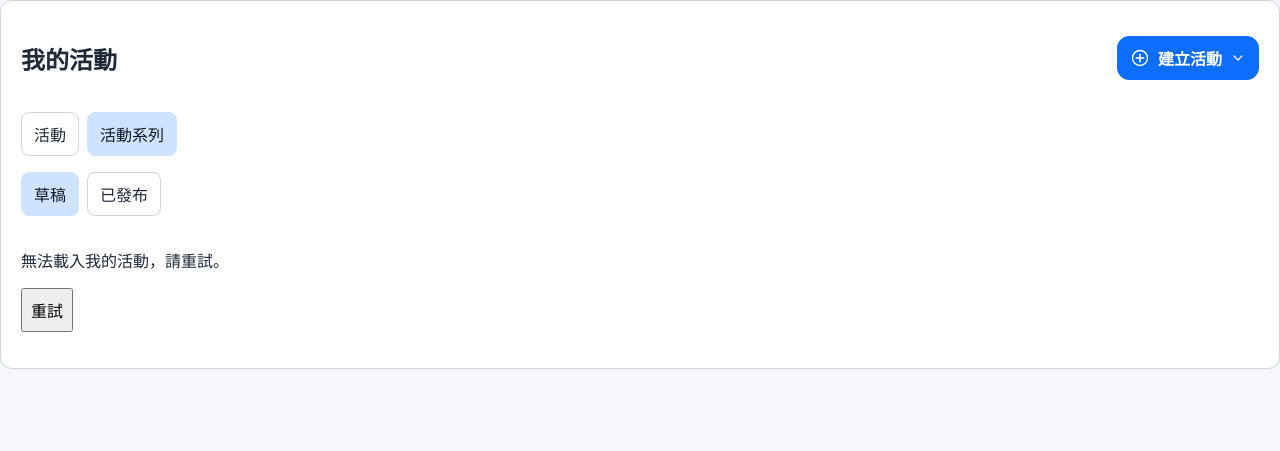
Test: MyEventsPage › has an error state and retries without displaying raw database errors
The image size is (1280, 451).
Expected: the message "無法載入我的活動，請重試。 重試" is shown, 21,251 -> 229,332
Click the button "重試" at (47, 310), box 21,288 -> 73,332
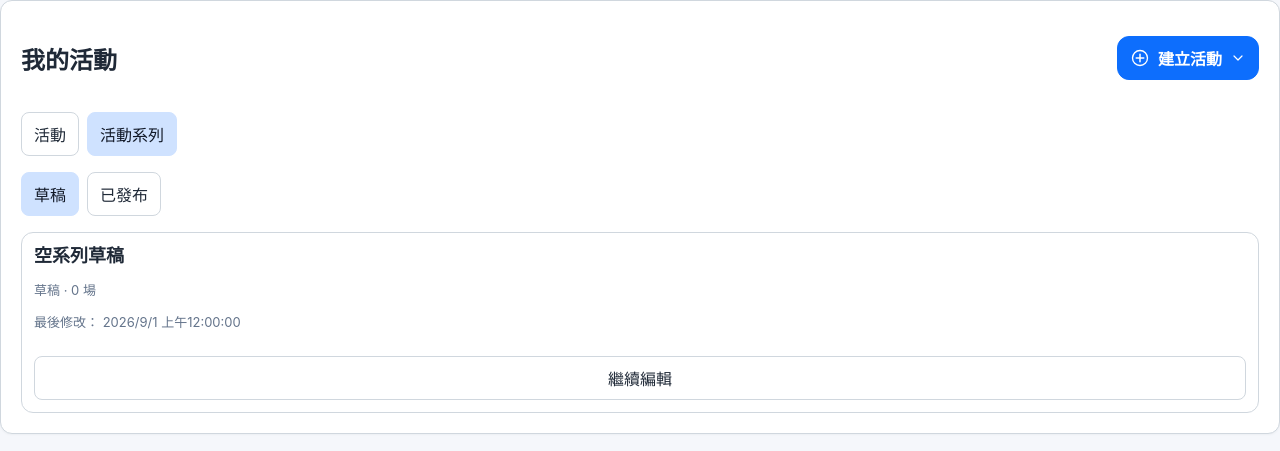
Expected: the heading "空系列草稿" is shown, 34,245 -> 124,266
